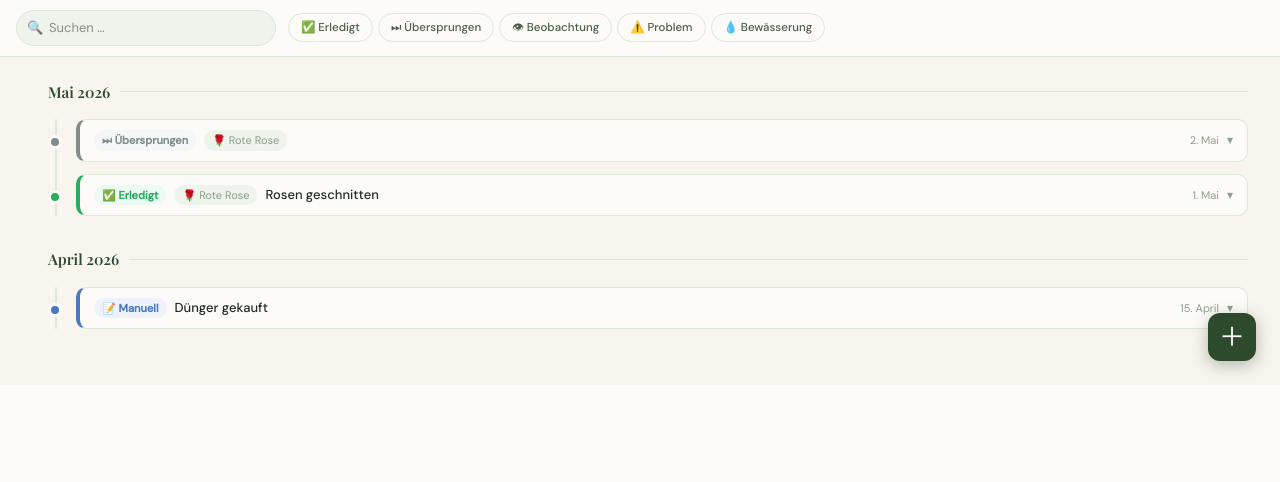
Test case: JournalView — expand entry (AC #2) › clicking entry with notes expands it
// je3 is first (2026-05-02), je1 is second (2026-05-01)
Click the element with test id "journal-entry" that starts with "✅ Erledigt" at (662, 195), box [76, 174, 1248, 216]
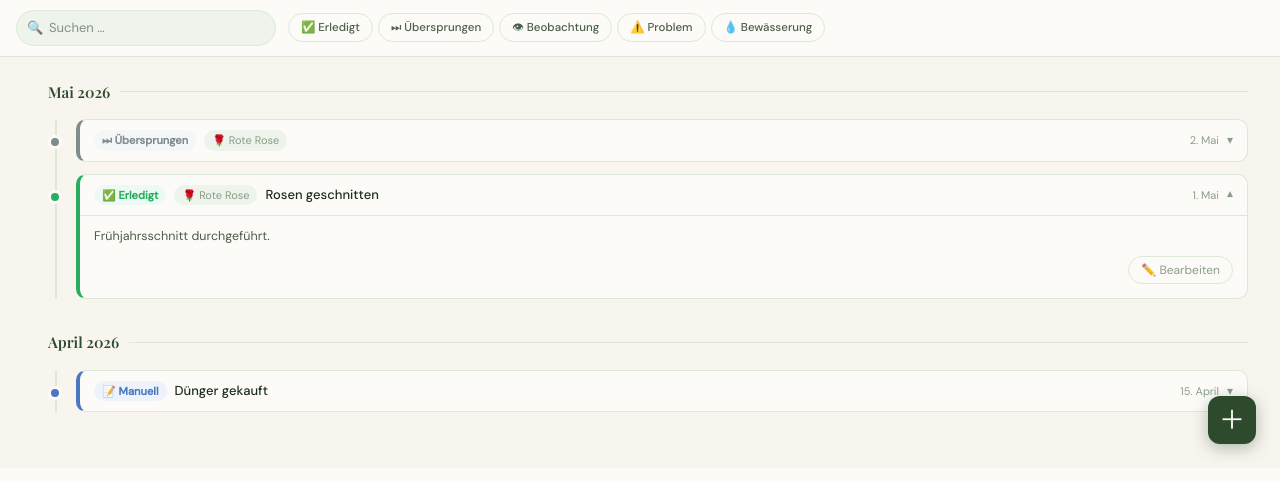
Check: the text "Frühjahrsschnitt durchgeführt." is shown, box [94, 228, 270, 244]
